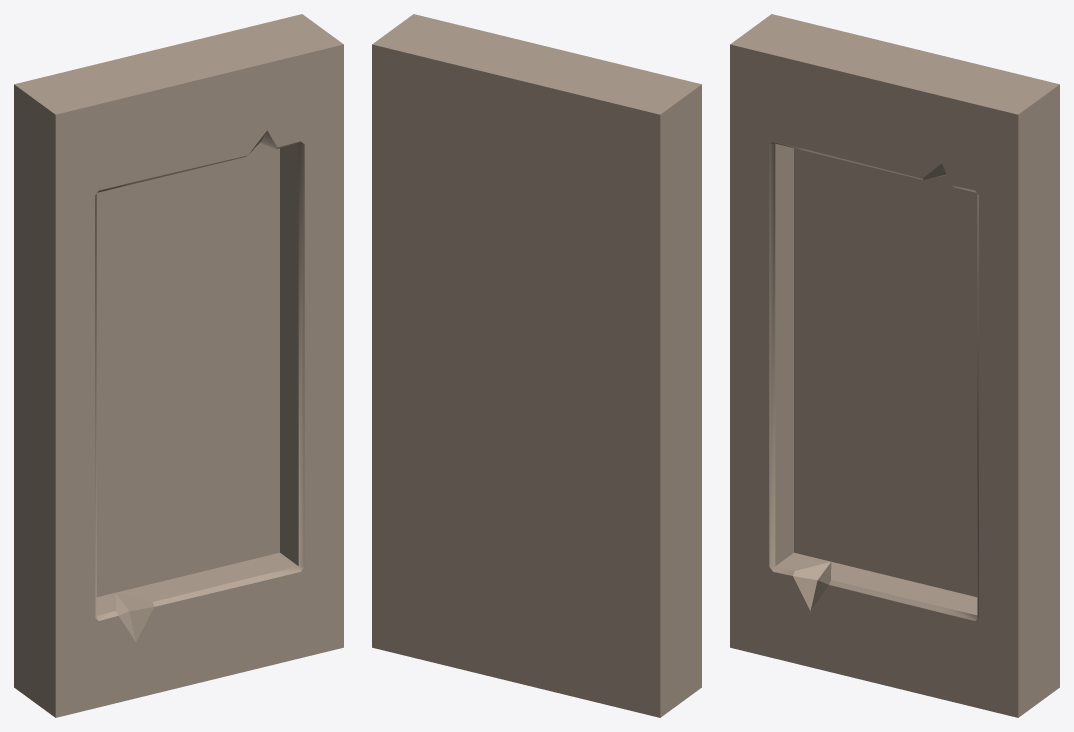
Rendered from Wall_Outside.FBX.
The picture shows the model from 3 angles, left to right: view 1: azimuth 30°, elevation 25°; view 2: azimuth 150°, elevation 25°; view 3: azimuth 330°, elevation 25°; orthographic projection.
Visible parts, largest first — view 1: Wall_Outside; view 2: Wall_Outside; view 3: Wall_Outside.
Boxes of the visible parts, x1,y1,x2,y2 form: Wall_Outside: (14, 14, 343, 717); Wall_Outside: (372, 14, 701, 717); Wall_Outside: (730, 14, 1059, 717).
Bounding box in the file's own units: 200 × 400 × 50.
